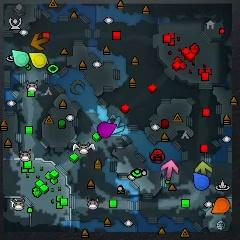p1: (193, 172, 210, 191)
p2: (11, 50, 29, 67)
p3: (98, 121, 117, 138)
p4: (29, 52, 47, 69)
p5: (212, 197, 230, 214)
x1: (162, 160, 179, 178)
x2: (196, 161, 212, 175)
x3: (107, 116, 124, 134)
x5: (31, 33, 49, 51)
